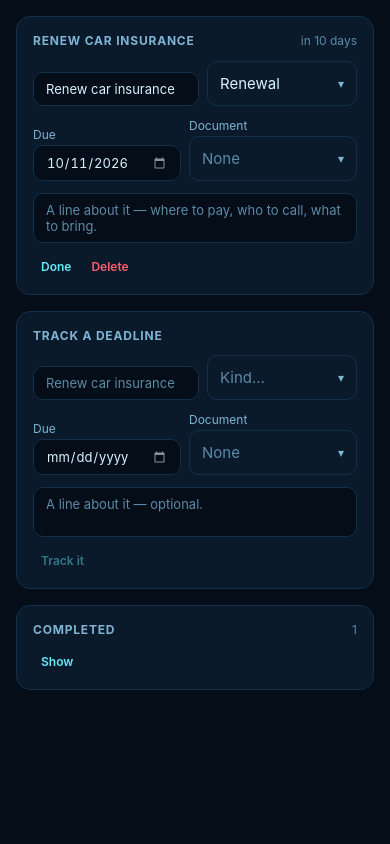
Test case: completed deadlines › sit collapsed behind a toggle, with a count
Check: the text "1" is shown, box [352,622,357,638]
Check: the text "File the return" is not shown
Click the button with aria-label "Show completed deadlines" at (57, 662), box [33,650,81,673]
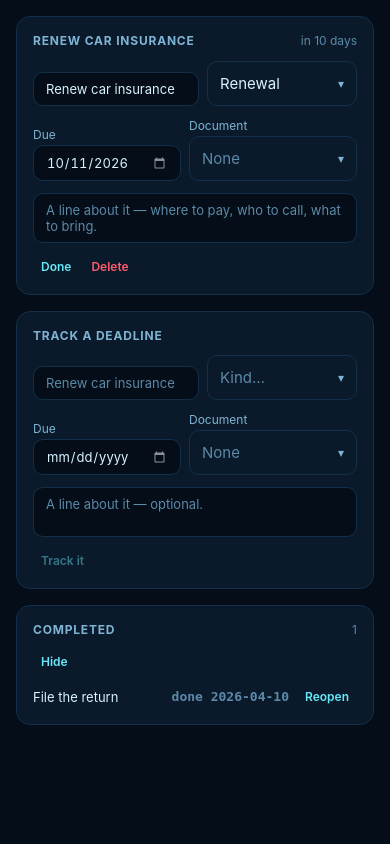
Check: the text "File the return" is shown, box [33,688,118,704]
